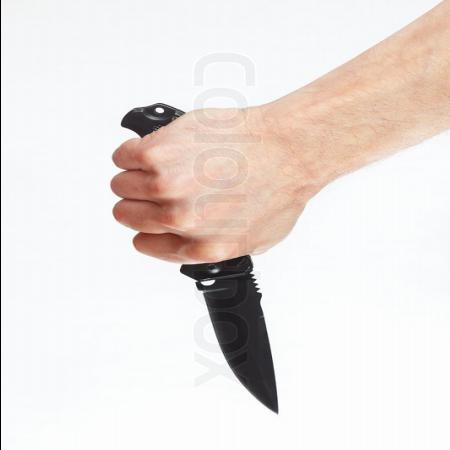long weapon: (104, 135, 292, 423)
